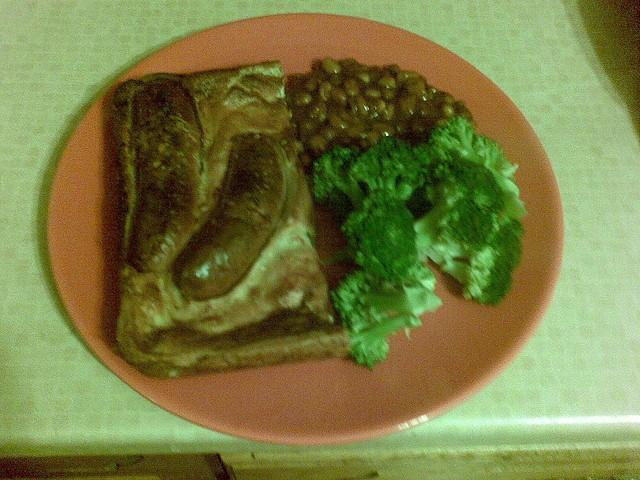broccoli: (413, 157, 526, 307), (330, 262, 442, 372), (320, 187, 418, 280), (347, 135, 428, 204), (312, 146, 368, 211), (439, 245, 495, 300), (431, 118, 484, 166)
